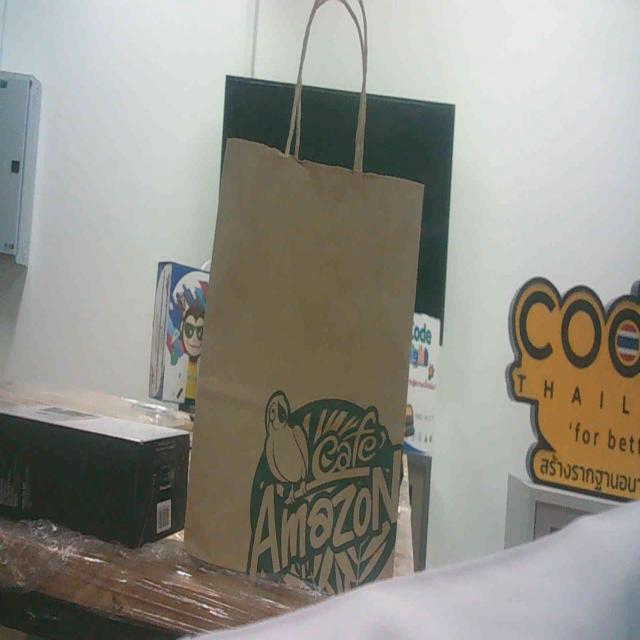bag: (174, 131, 438, 640)
